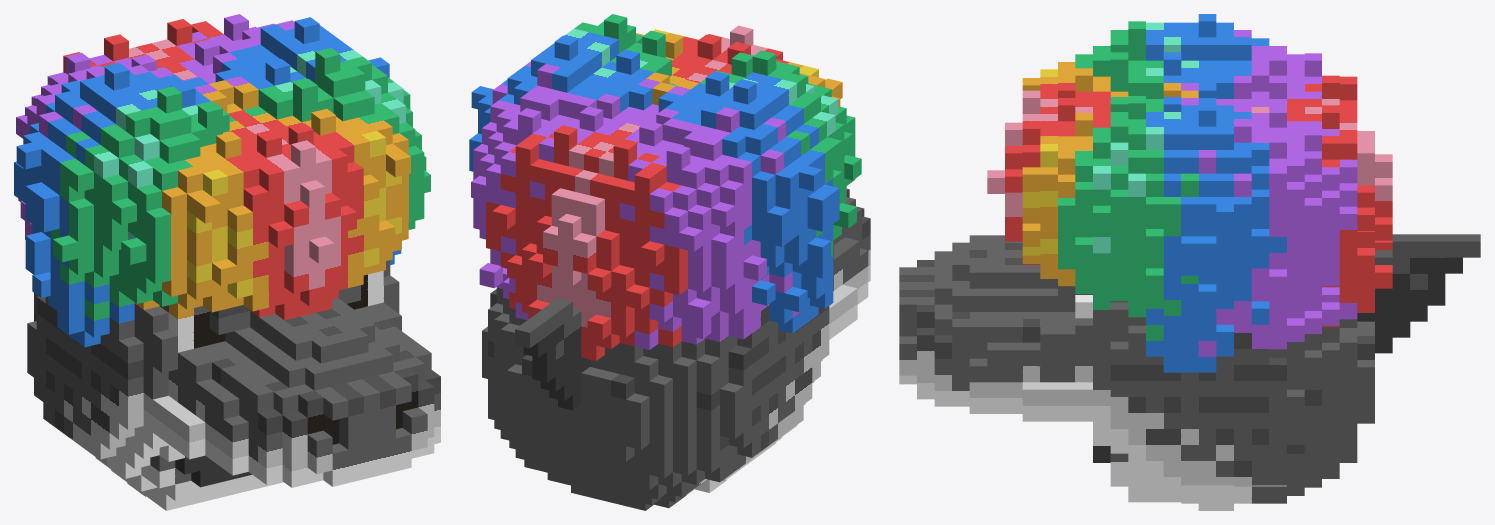
File: clown wig.gltf
3 views of the same model, side by side, from view 1: azimuth 30°, elevation 25°; view 2: azimuth 150°, elevation 25°; view 3: azimuth 270°, elevation 25° (orthographic). The views are drawn at different scales.
Parts seen in each view (by area): view 1: 14_Zilla_Head_Clown_Wig-Mesh; view 2: 14_Zilla_Head_Clown_Wig-Mesh; view 3: 14_Zilla_Head_Clown_Wig-Mesh.
Boxes of the visible parts, x1,y1,x2,y2 form: 14_Zilla_Head_Clown_Wig-Mesh: [14, 14, 440, 510]; 14_Zilla_Head_Clown_Wig-Mesh: [469, 14, 870, 510]; 14_Zilla_Head_Clown_Wig-Mesh: [899, 14, 1480, 510].
Size of the model in its own units: 23 by 26 by 33.
Materials: 1 (1 with a texture image).
